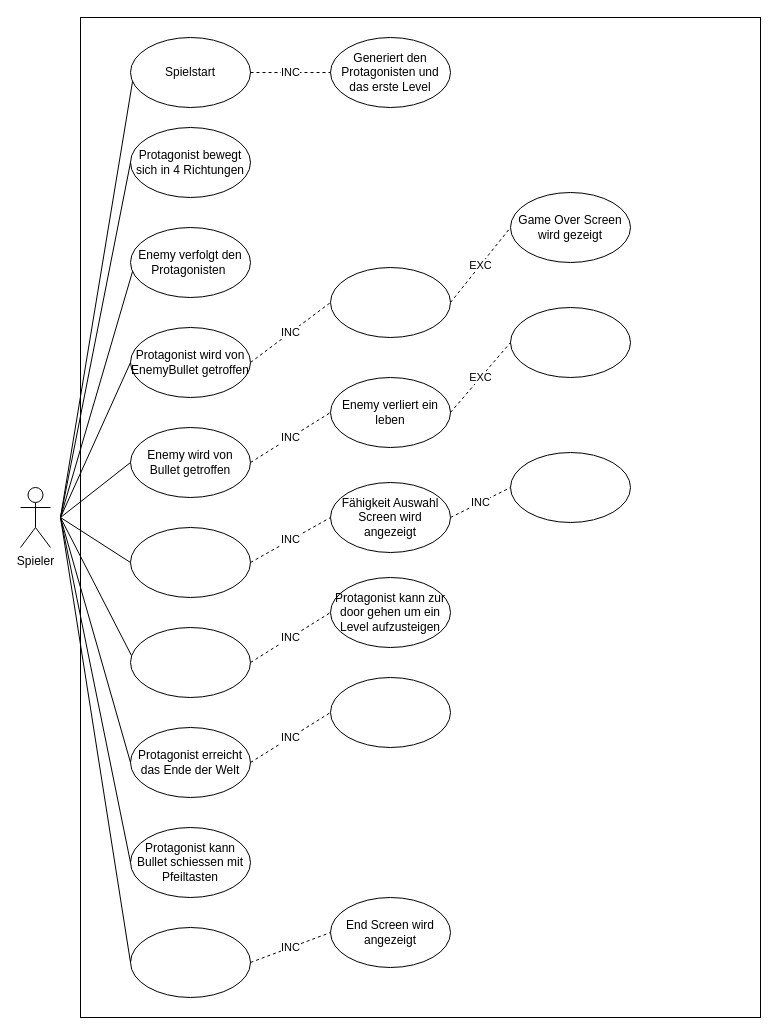
The diagram is 778 pixels wide and 1035 high, and some of its shapes have lost their labels. The shapes that lost their labels are listed below. From the top down, each one's centre as x and y in pixels, then its label:
At pixel 390 302: "Protagonist verliert ein leben".
At pixel 570 342: "Protagonist bekommt EXP".
At pixel 570 487: "Spieler wählt eine Fähigkeit aus".
At pixel 190 562: "ExpBar ist gefüllt".
At pixel 190 662: "Alle Enemies wurden erledigt".
At pixel 390 712: "Protagnist kann sich nicht mehr weiter in die RIchtung bewegen".
At pixel 190 962: "Alle Level wurden bezwungen".
